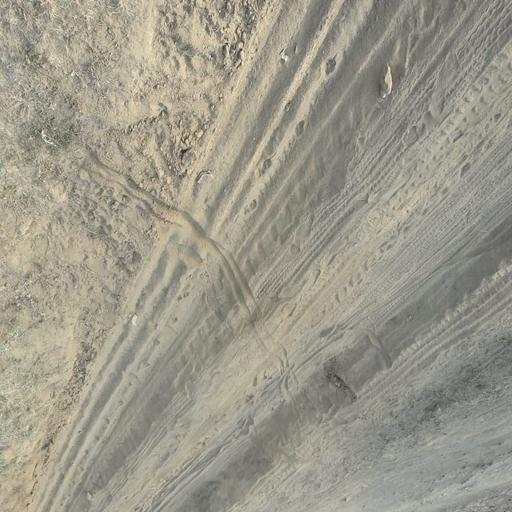vehicle_track: (28, 0, 512, 512)
